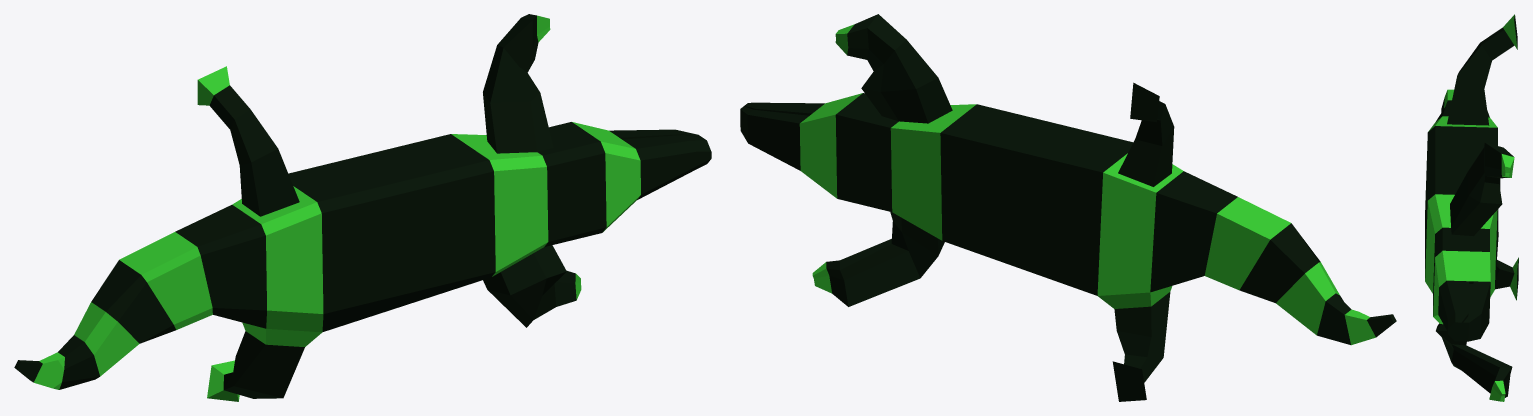
Rendered from crocodile.obj.
3 views of the same model, side by side, from view 1: azimuth 30°, elevation 25°; view 2: azimuth 150°, elevation 25°; view 3: azimuth 270°, elevation 25° (orthographic). The views are drawn at different scales.
Parts seen in each view (by area): view 1: Cube.002_Cube.003; view 2: Cube.002_Cube.003; view 3: Cube.002_Cube.003.
Boxes of the visible parts, bbox=[...] form: Cube.002_Cube.003: bbox=[14, 14, 711, 401]; Cube.002_Cube.003: bbox=[740, 14, 1396, 401]; Cube.002_Cube.003: bbox=[1425, 14, 1518, 401].
Bounding box in the file's own units: 14.89 × 7.04 × 2.17.
